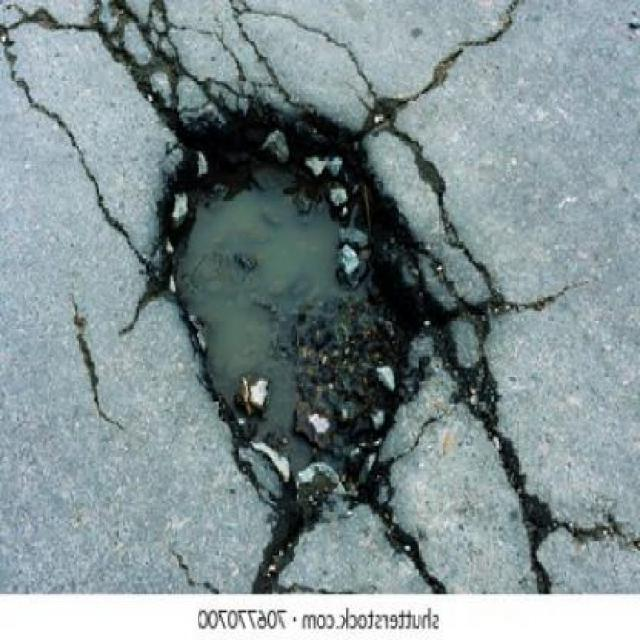pothole: (145, 91, 454, 527)
